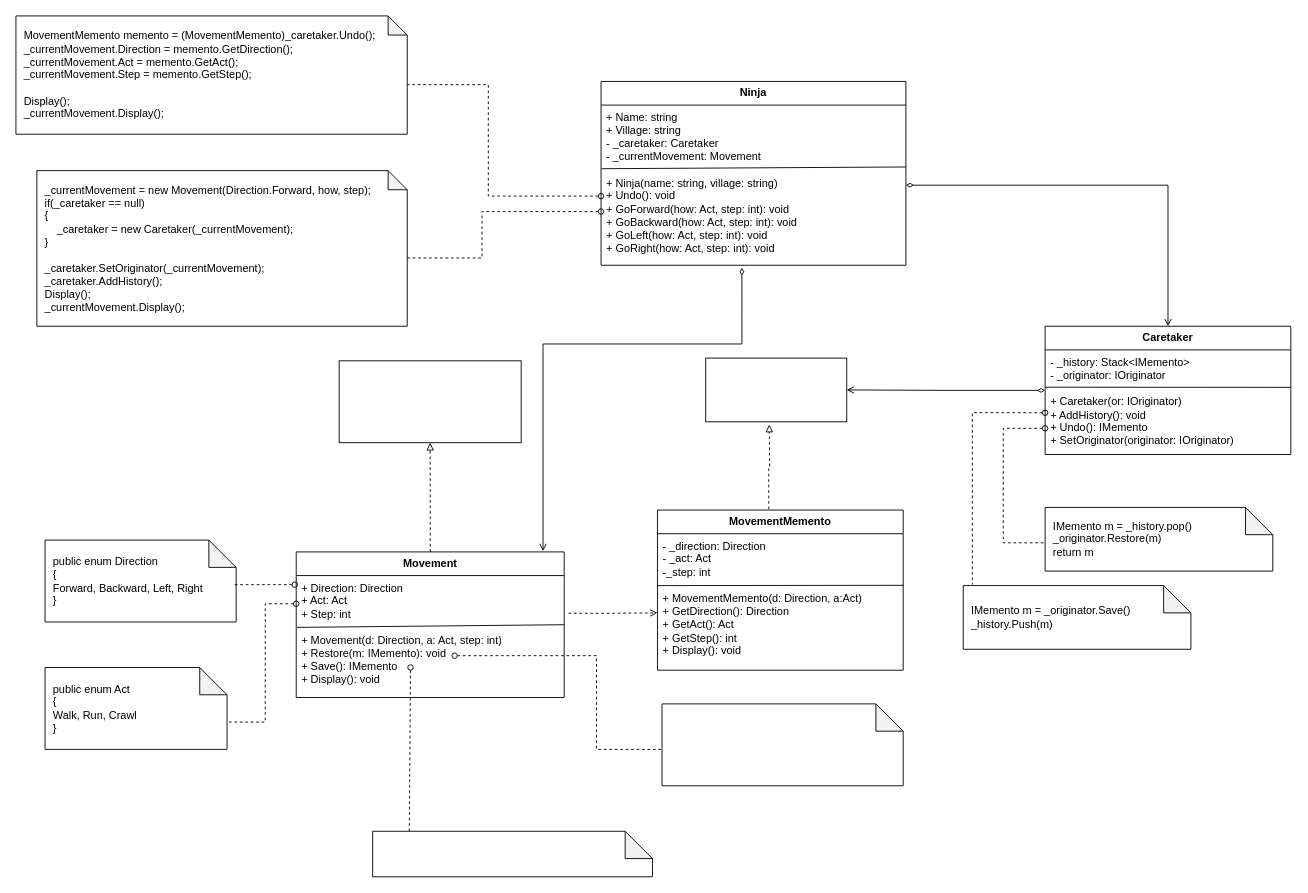
The diagram is 1308 pixels wide and 893 high, and some of its shapes have lost their labels. Here are the shapes that lost their labels. From the top down, the box of each, then its label:
(338, 360, 521, 443): <<Interface>> IOriginator + Save(): IMemento + Restore(m: IMemento)
(705, 357, 847, 422): <<Interface>> IMemento + Display(): void
(661, 703, 903, 786): Direction = mm.GetDirection(); Act = mm.GetAct(); Step = mm.GetStep()
(372, 830, 652, 877): return new MovementMemento(Direction, Act)
